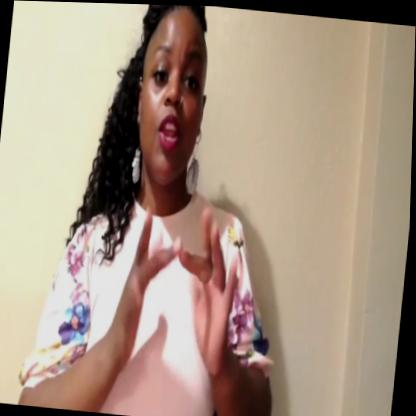Internet: (104, 194, 252, 388)
